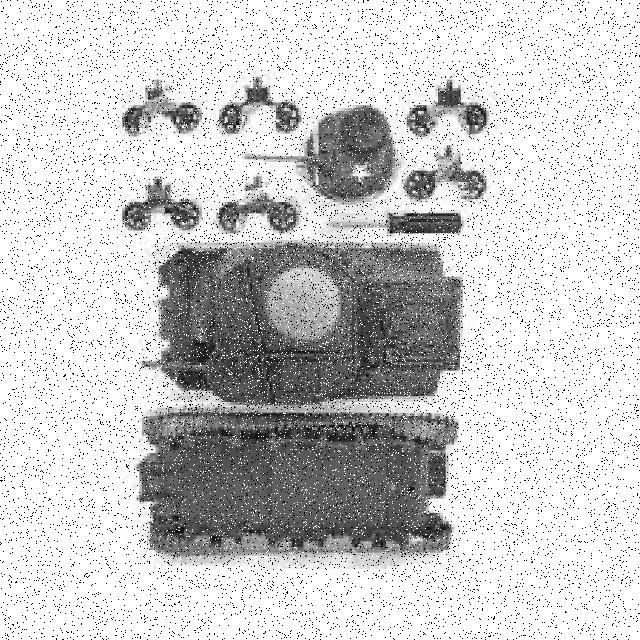MIL_MBT: (157, 234, 465, 409), (144, 414, 458, 560)
